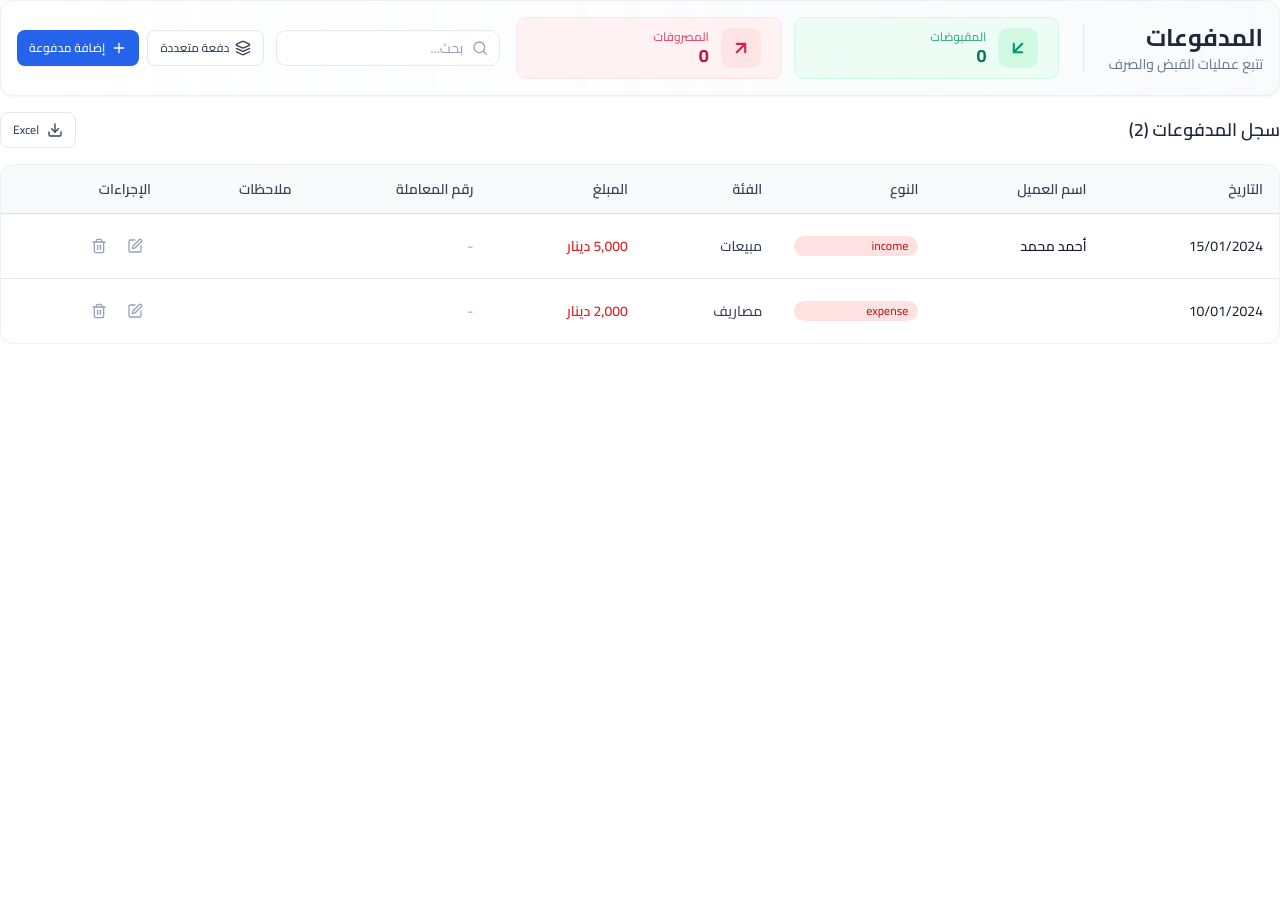
PaymentsPage › Add Payment Dialog › opens dialog when add button clicked
Click the button "إضافة مدفوعة" at x=78, y=48, box [17,30,139,66]
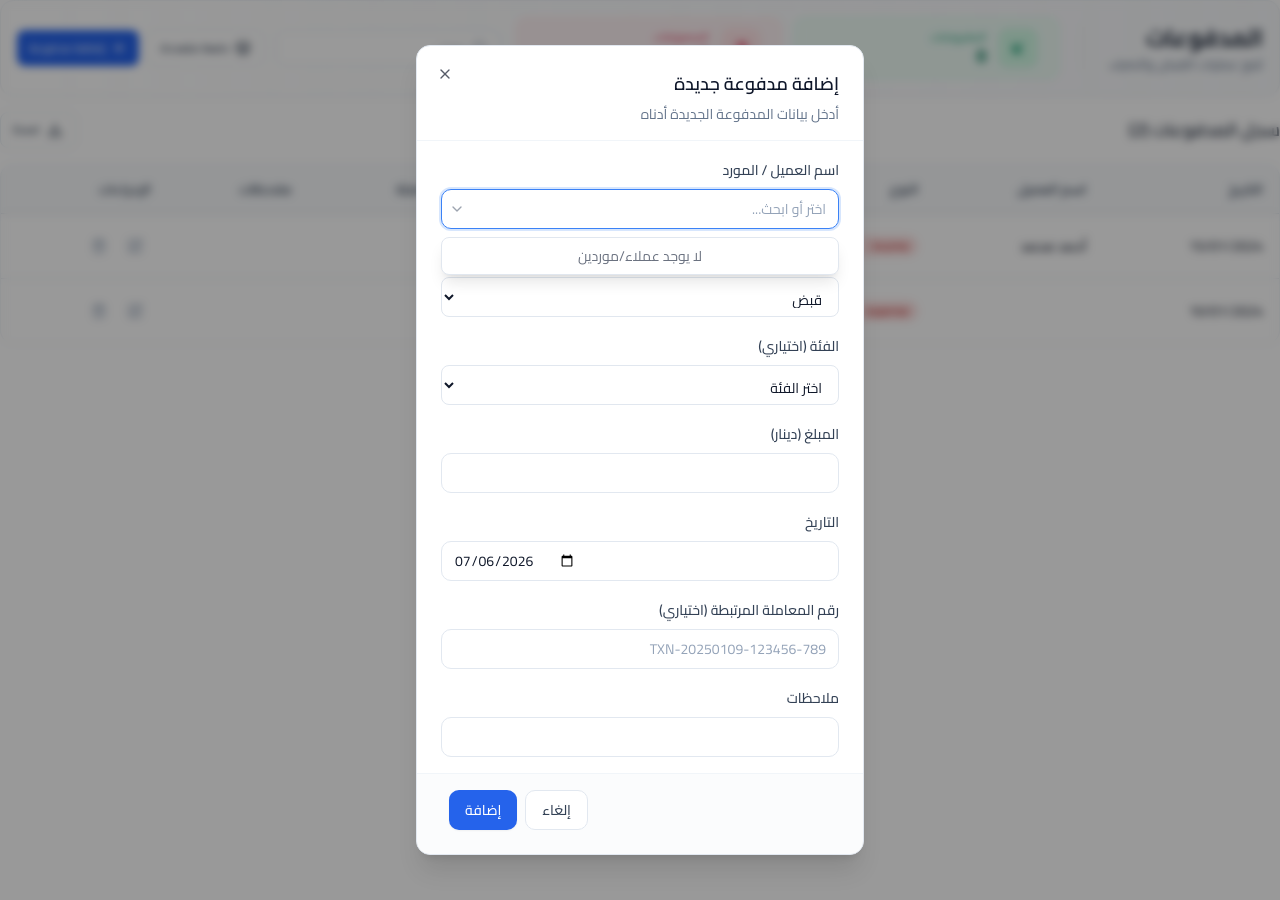
Now the dialog is shown, box [416,45,864,855]
